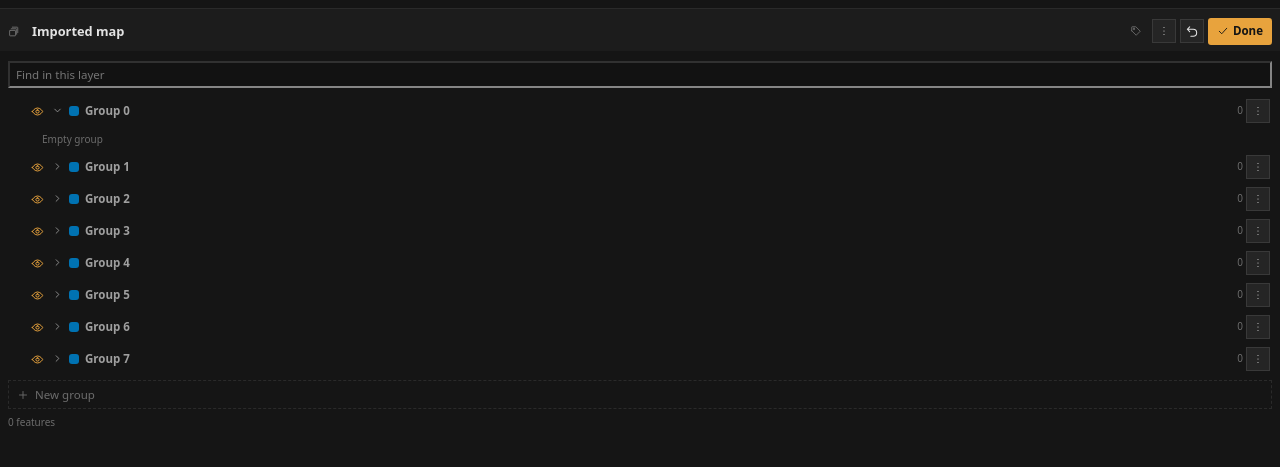
personal layers › opens a large imported group list folded and lets its groups be unfolded
This screenshot has width=1280, height=467.
Click the button with class "group-title" showing "Group 1 0". click: (107, 167)
box: [50, 154, 1245, 180]
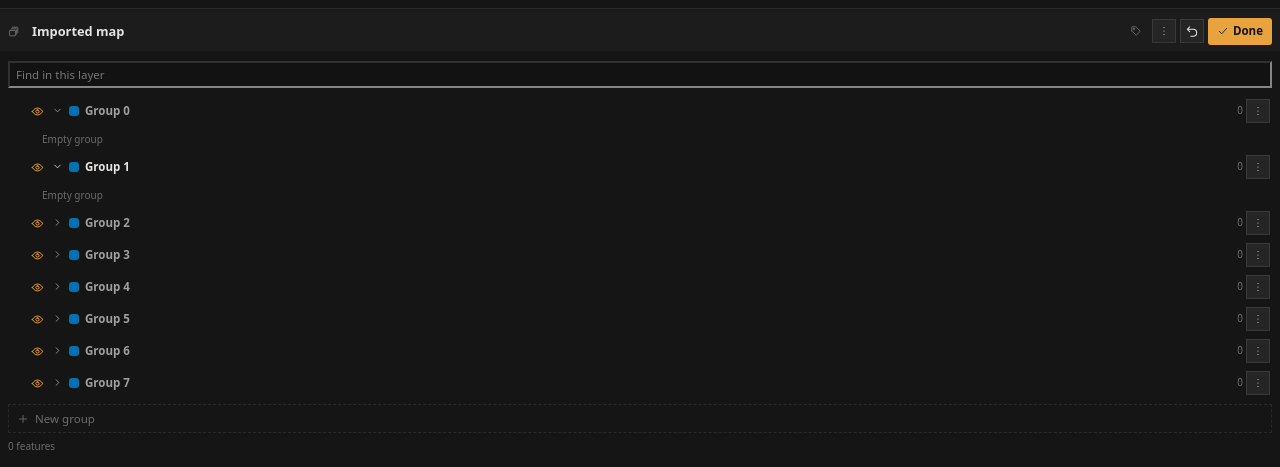
Expected: the button with class "group-title" is expanded, [50, 154, 1245, 180]
